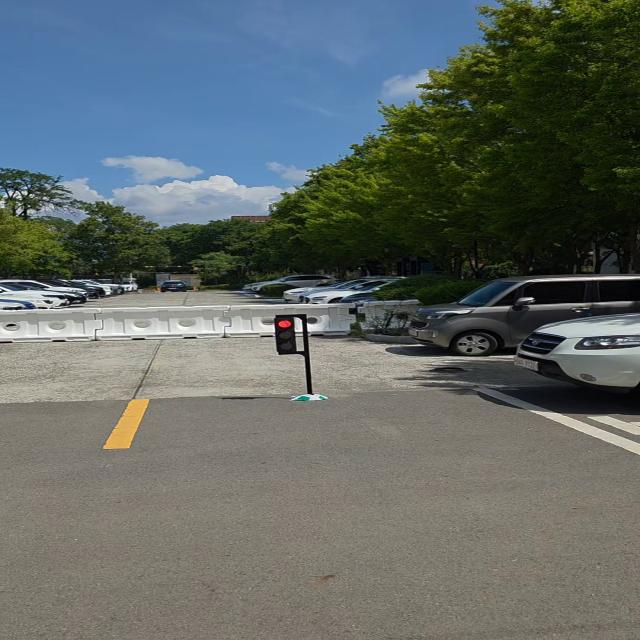red: (271, 317, 304, 353)
